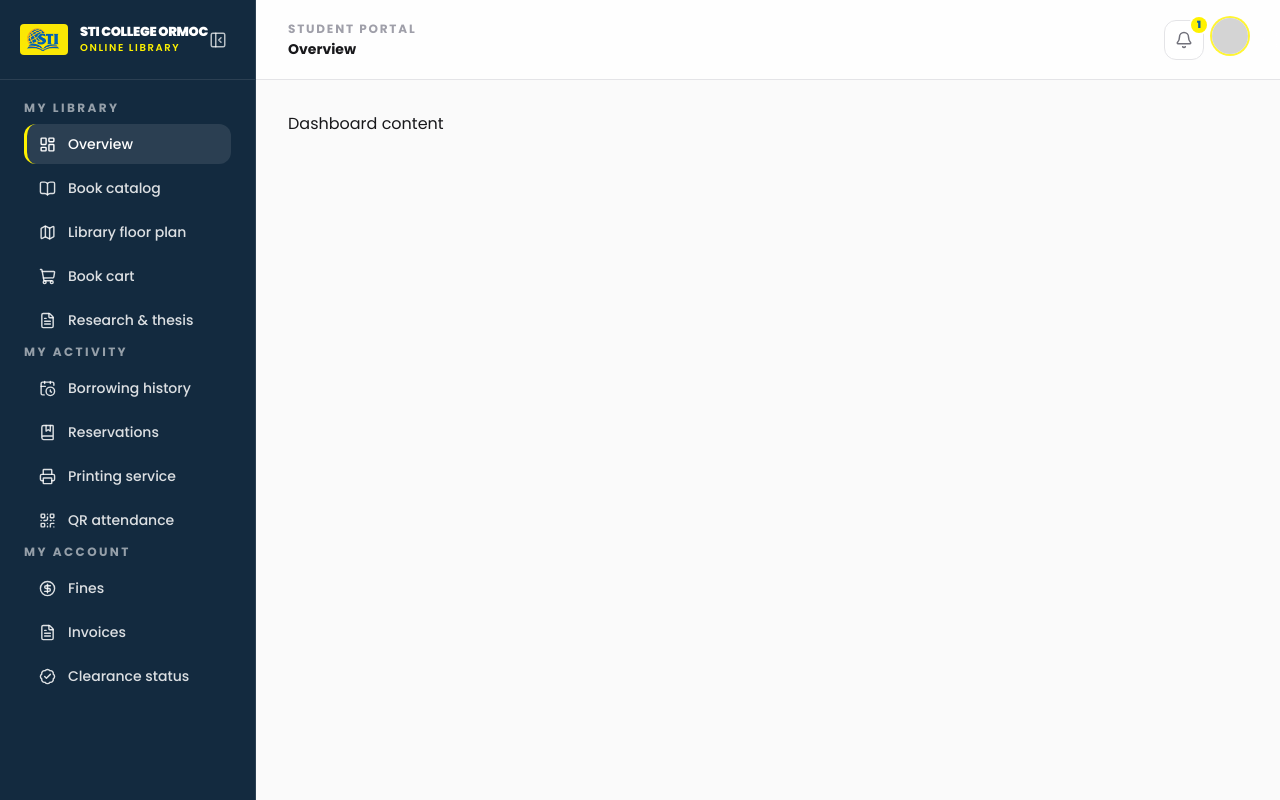
Scenario: opens notifications from the header bell instead of the sidebar
The image size is (1280, 800).
Check: the link "Notifications" is not shown
Click the button named "Notifications, 1 unread": (1184, 40) [1164,20,1204,60]
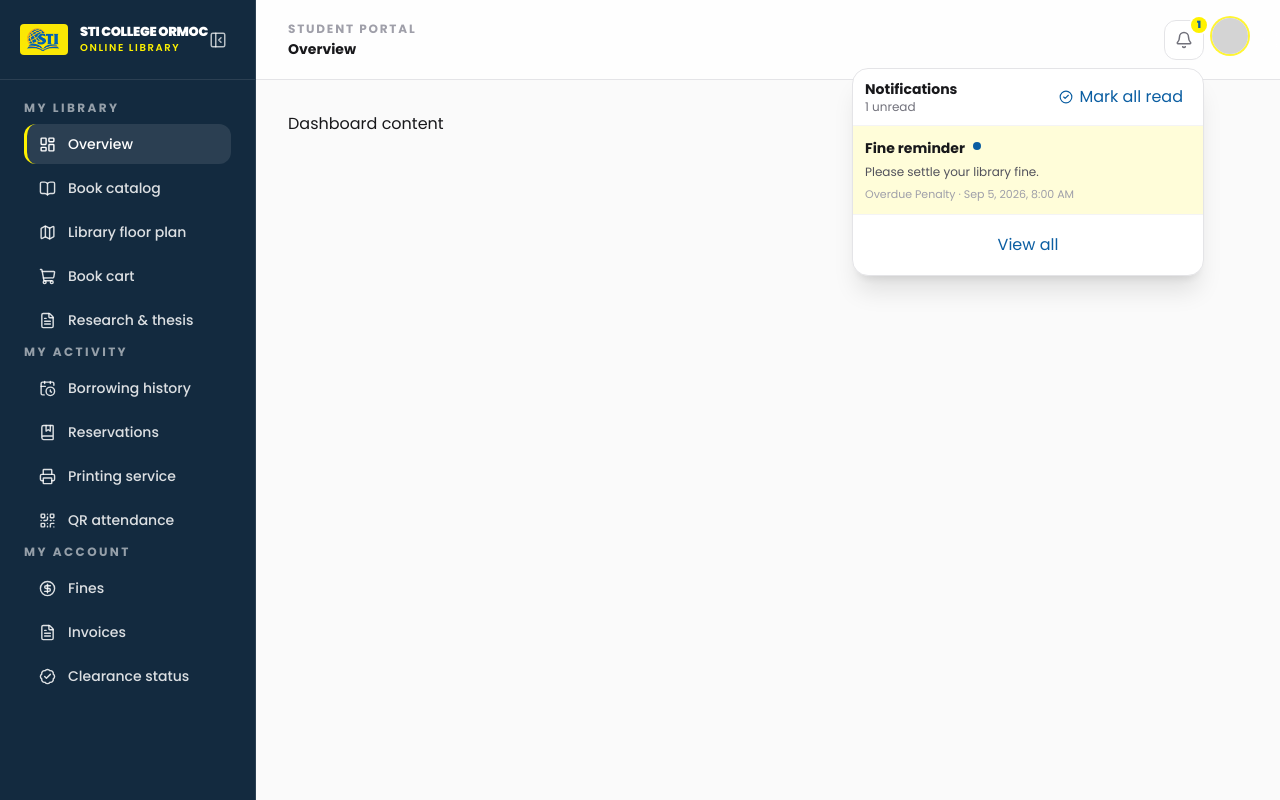
Check: the dialog "Notifications" is shown, box [852,68,1204,276]
Check: the text "Fine reminder" is shown, box [865,138,965,158]
Click the button "View all": (1028, 245) [861,223,1195,267]
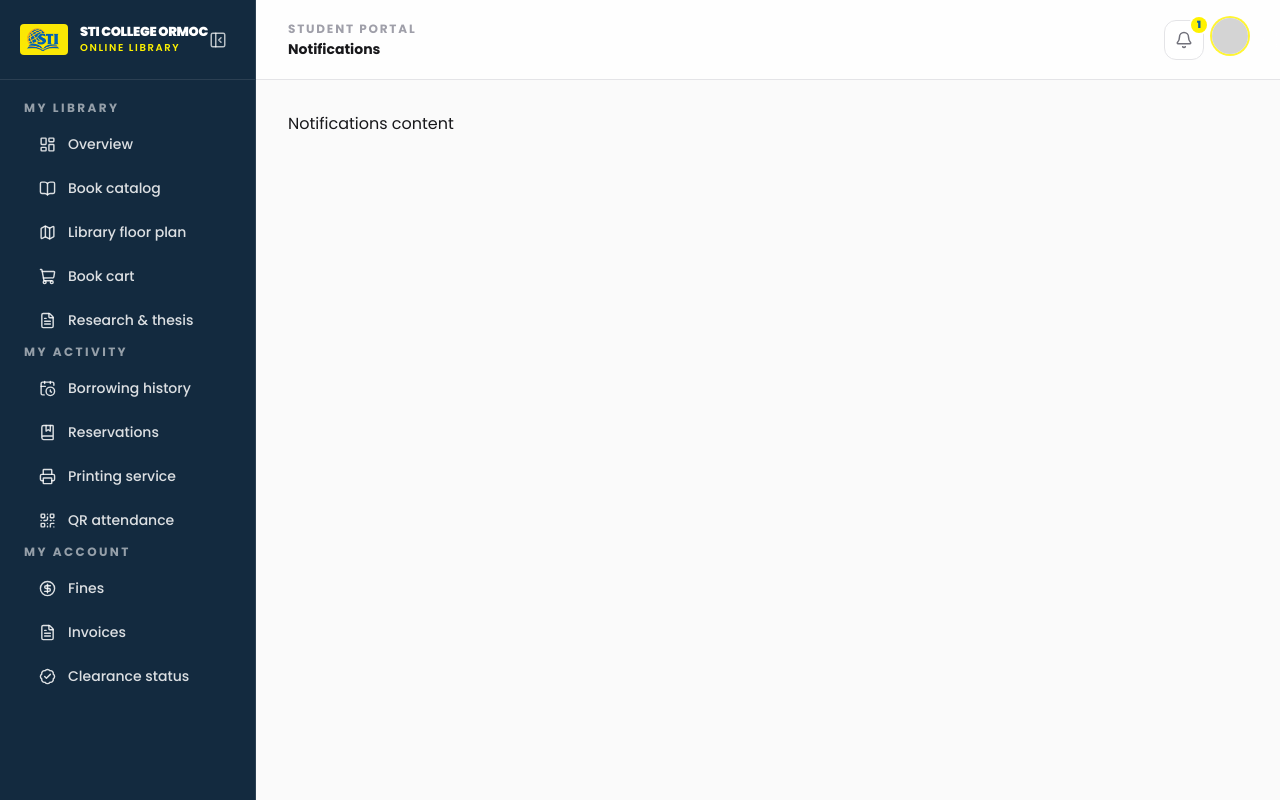
Check: the text "Notifications content" is shown, box [288,112,454,135]
